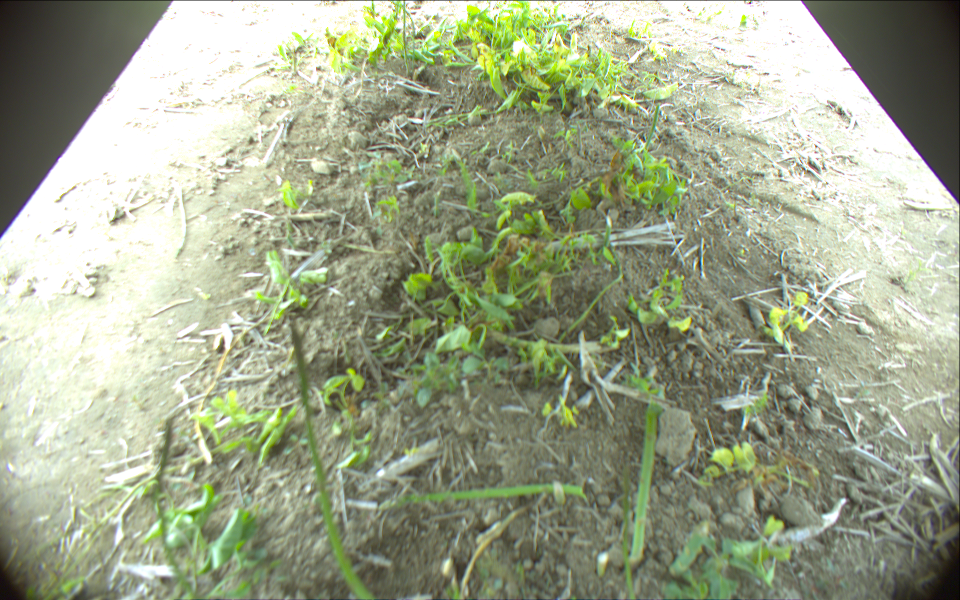aspa: (287, 314, 380, 600), (155, 416, 202, 600), (388, 482, 583, 505), (633, 401, 660, 563), (620, 458, 644, 598), (391, 1, 418, 54), (641, 103, 661, 158), (401, 1, 412, 74)
